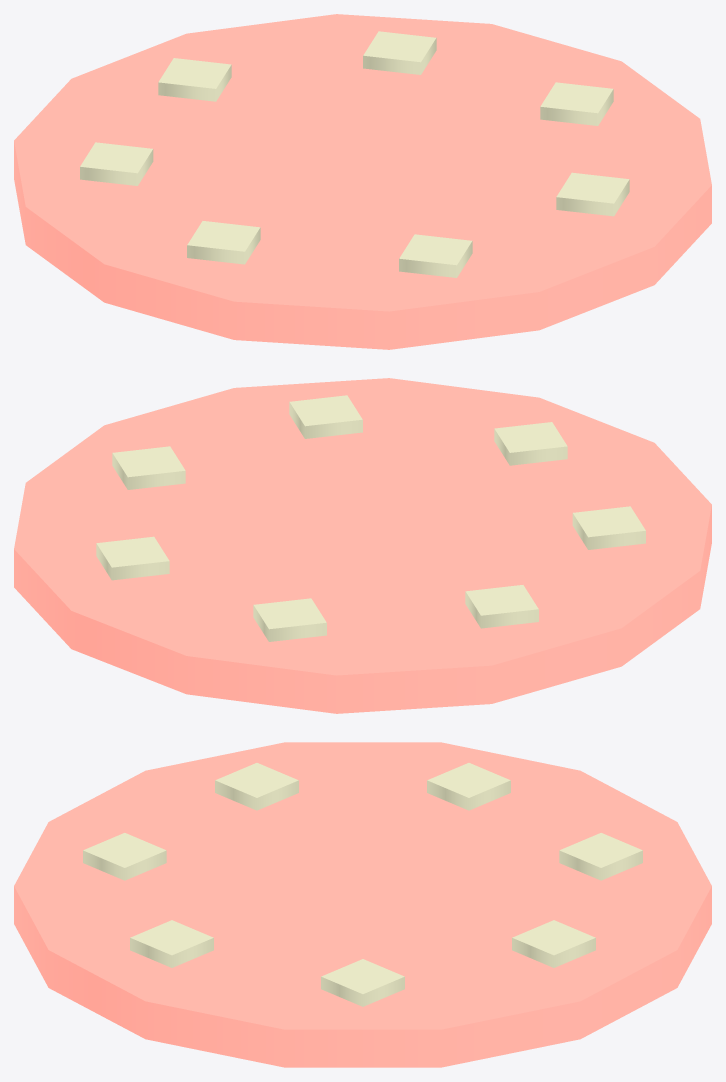
Rendered from disco_sem_data.glb.
3 views of the same model, one above another, from view 1: azimuth 30°, elevation 25°; view 2: azimuth 150°, elevation 25°; view 3: azimuth 270°, elevation 25° (orthographic).
Visible parts, largest first — view 1: _MeshInstance3D_6476_7, _MeshInstance3D_6482_1, _MeshInstance3D_6481_2, _MeshInstance3D_6483_0, _MeshInstance3D_6479_4, _MeshInstance3D_6478_5, _MeshInstance3D_6480_3, _MeshInstance3D_6477_6; view 2: _MeshInstance3D_6476_7, _MeshInstance3D_6480_3, _MeshInstance3D_6479_4, _MeshInstance3D_6483_0, _MeshInstance3D_6482_1, _MeshInstance3D_6478_5, _MeshInstance3D_6481_2, _MeshInstance3D_6477_6; view 3: _MeshInstance3D_6476_7, _MeshInstance3D_6483_0, _MeshInstance3D_6478_5, _MeshInstance3D_6477_6, _MeshInstance3D_6482_1, _MeshInstance3D_6479_4, _MeshInstance3D_6481_2, _MeshInstance3D_6480_3.
Part boxes in pixels (x1,y1,x2,y2): _MeshInstance3D_6476_7: (14, 14, 711, 349); _MeshInstance3D_6482_1: (158, 58, 231, 101); _MeshInstance3D_6481_2: (80, 142, 153, 185); _MeshInstance3D_6483_0: (363, 31, 436, 74); _MeshInstance3D_6479_4: (399, 234, 472, 277); _MeshInstance3D_6478_5: (556, 172, 629, 216); _MeshInstance3D_6480_3: (187, 221, 260, 264); _MeshInstance3D_6477_6: (540, 82, 613, 125); _MeshInstance3D_6476_7: (14, 378, 711, 713); _MeshInstance3D_6480_3: (572, 506, 645, 549); _MeshInstance3D_6479_4: (494, 422, 567, 465); _MeshInstance3D_6483_0: (96, 536, 169, 580); _MeshInstance3D_6482_1: (253, 598, 326, 641); _MeshInstance3D_6478_5: (289, 395, 362, 438); _MeshInstance3D_6481_2: (465, 585, 538, 628); _MeshInstance3D_6477_6: (112, 446, 185, 489); _MeshInstance3D_6476_7: (14, 742, 711, 1067); _MeshInstance3D_6483_0: (512, 920, 595, 967); _MeshInstance3D_6478_5: (130, 920, 213, 967); _MeshInstance3D_6477_6: (321, 959, 404, 1006); _MeshInstance3D_6482_1: (559, 833, 642, 880); _MeshInstance3D_6479_4: (83, 833, 166, 880); _MeshInstance3D_6481_2: (427, 763, 510, 810); _MeshInstance3D_6480_3: (215, 763, 298, 810).
Size of the model in its own units: 0.195 by 0.016 by 0.2.
